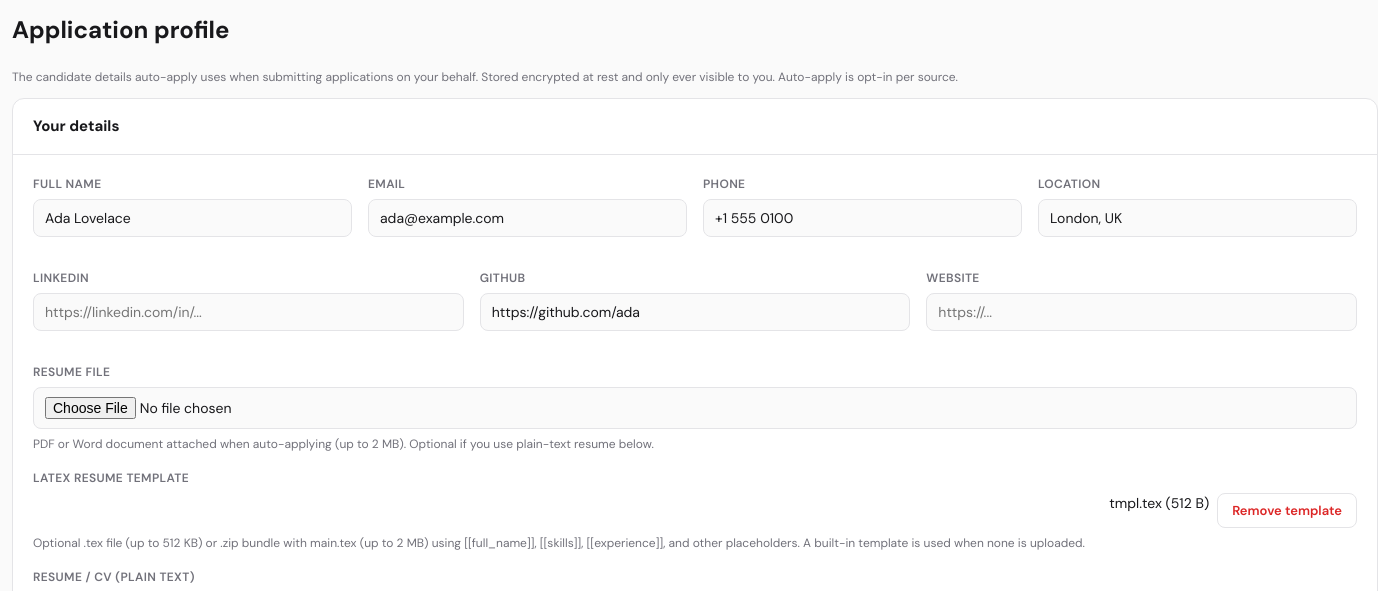
Test case: ProfilePage files and structured editing › surfaces an error when removing a template fails
Click the button "Remove template". click: (1287, 510)
box: [1217, 492, 1357, 528]
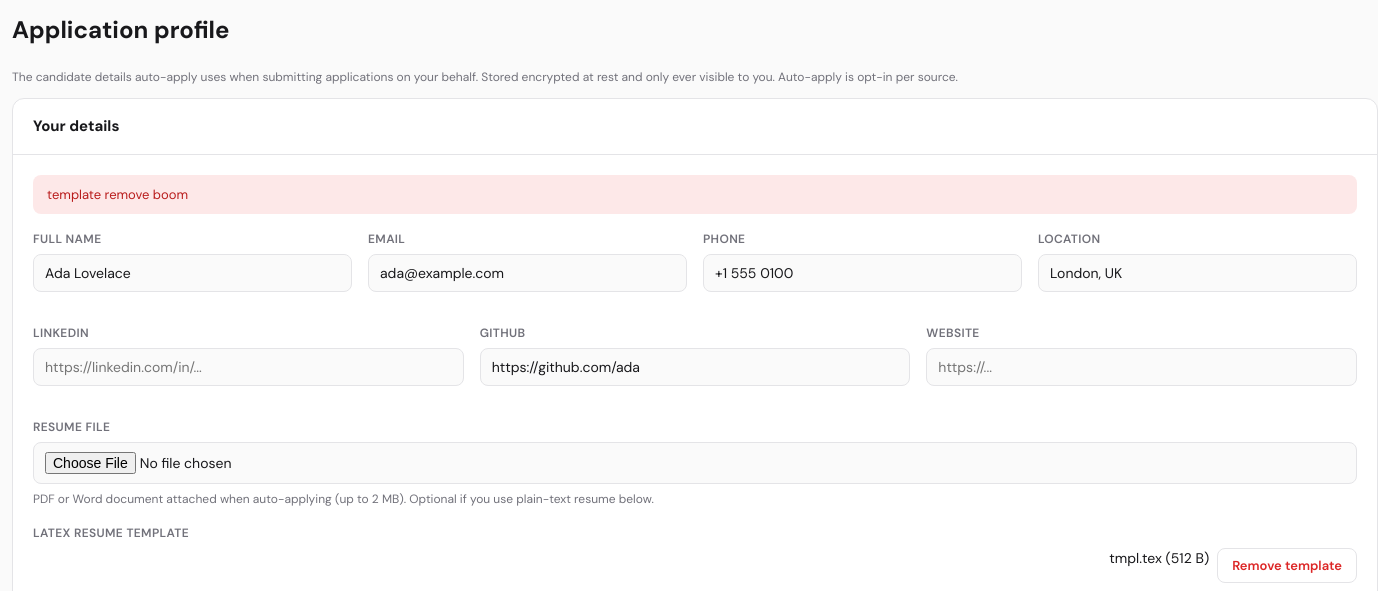
expect the text "template remove boom" is shown: met, box [33, 174, 1357, 214]
